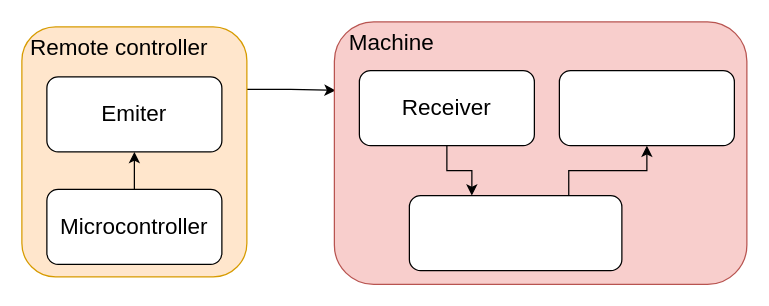
Image size: 769x306. Some labels were removed from this diagram. Here are the shapes that lost their labels. From the top down, the centre of each, then its label:
At (x=646, y=107): "Displays".
At (x=515, y=232): "Microcontrollers".
